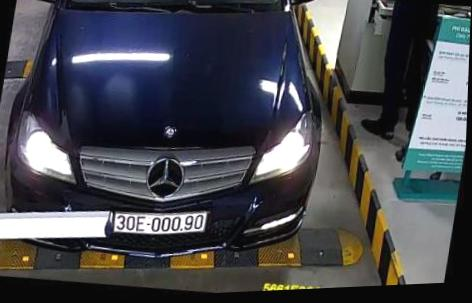License_Plate: (112, 204, 210, 244)
